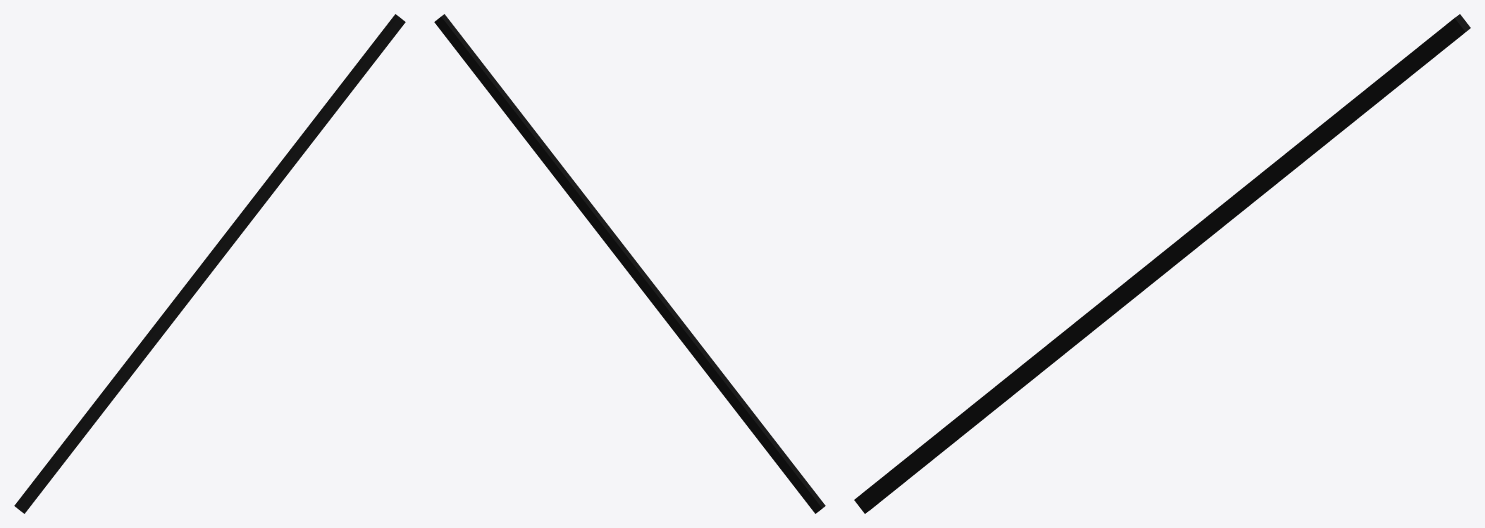
The model's file is Itr_Obj_Alarmclcok_Minute_01.FBX.
3 views of the same model, side by side, from view 1: azimuth 30°, elevation 25°; view 2: azimuth 150°, elevation 25°; view 3: azimuth 330°, elevation 25° (orthographic). The views are drawn at different scales.
Parts seen in each view (by area): view 1: Itr_Obj_Alarmclcok_Minute_01; view 2: Itr_Obj_Alarmclcok_Minute_01; view 3: Itr_Obj_Alarmclcok_Minute_01.
Boxes of the visible parts, bbox=[...] form: Itr_Obj_Alarmclcok_Minute_01: bbox=[14, 14, 405, 513]; Itr_Obj_Alarmclcok_Minute_01: bbox=[434, 14, 825, 513]; Itr_Obj_Alarmclcok_Minute_01: bbox=[854, 14, 1470, 513].
Bounding box in the file's own units: 1.26 × 1.26 × 0.0194.
